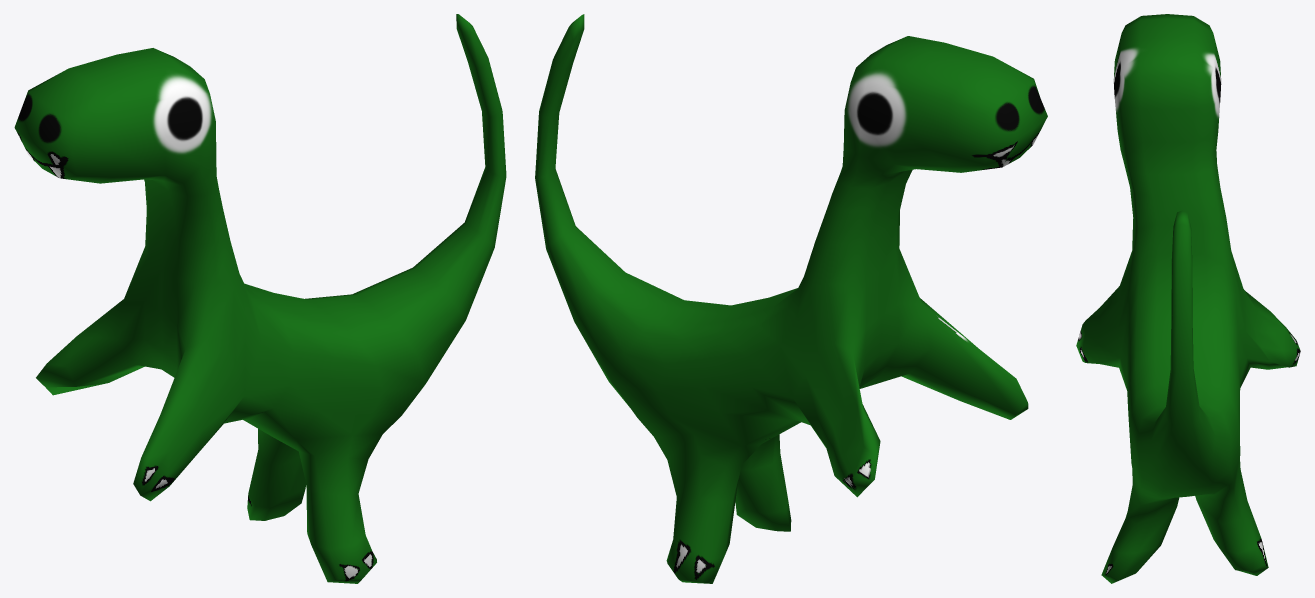
The model's file is Dinosaure.fbx.
3 renders of one model, left to right at view 1: azimuth 30°, elevation 25°; view 2: azimuth 150°, elevation 25°; view 3: azimuth 270°, elevation 25°, orthographic. The views are drawn at different scales.
Parts seen in each view (by area): view 1: Dinosaure; view 2: Dinosaure; view 3: Dinosaure.
Part boxes in pixels (x1,y1,x2,y2): Dinosaure: [14, 14, 506, 583]; Dinosaure: [535, 14, 1047, 583]; Dinosaure: [1076, 14, 1300, 583].
Bounding box in the file's own units: 856 × 919 × 401.
